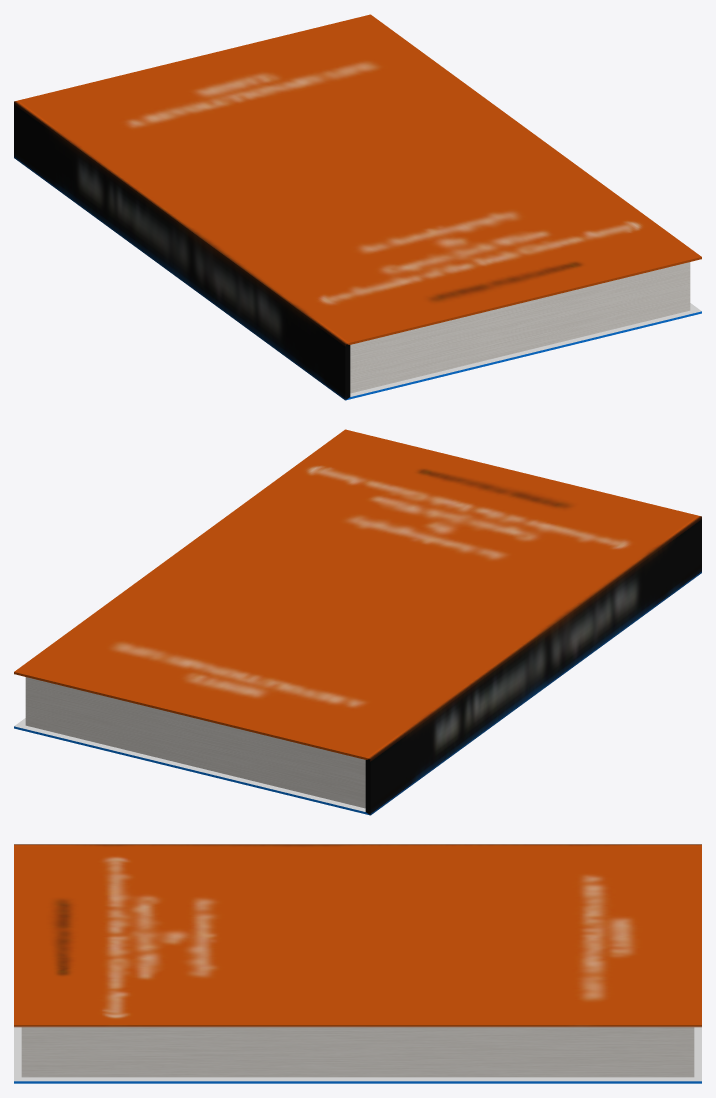
File: book_08.fbx
3 renders of one model, top to bottom at view 1: azimuth 30°, elevation 25°; view 2: azimuth 150°, elevation 25°; view 3: azimuth 270°, elevation 25°, orthographic. The views are drawn at different scales.
Parts seen in each view (by area): view 1: book_08; view 2: book_08; view 3: book_08.
Part boxes in pixels (box(x1,y1,x2,y2)): book_08: box(14, 14, 701, 400); book_08: box(14, 429, 701, 815); book_08: box(14, 844, 701, 1083).
Size of the model in its own units: 0.2716 by 0.0412 by 0.4369.
1 material, 1 textured.
